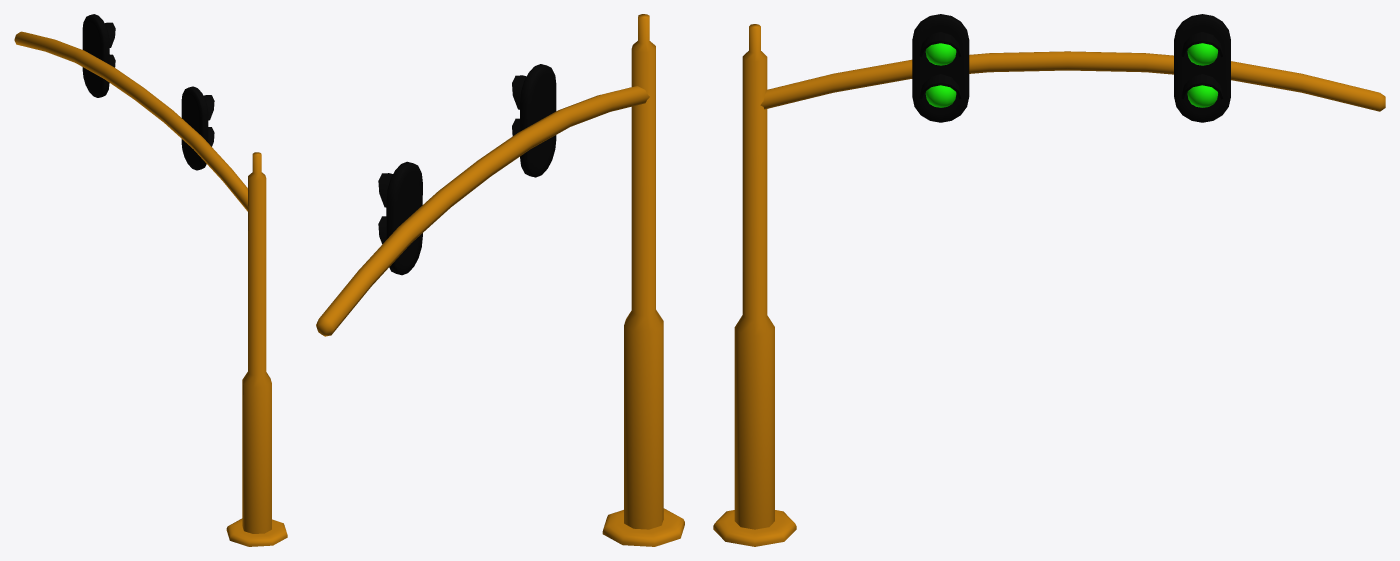
Rendered from Semaforo.FBX.
The picture shows the model from 3 angles, left to right: view 1: azimuth 30°, elevation 25°; view 2: azimuth 150°, elevation 25°; view 3: azimuth 270°, elevation 25°; orthographic projection. The views are drawn at different scales.
Visible parts, largest first — view 1: Line002; view 2: Line002; view 3: Line002.
Part boxes in pixels (x1,y1,x2,y2): Line002: (14, 14, 287, 546); Line002: (316, 14, 684, 546); Line002: (713, 14, 1385, 546).
Size of the model in its own units: 47.4 by 325 by 382.
